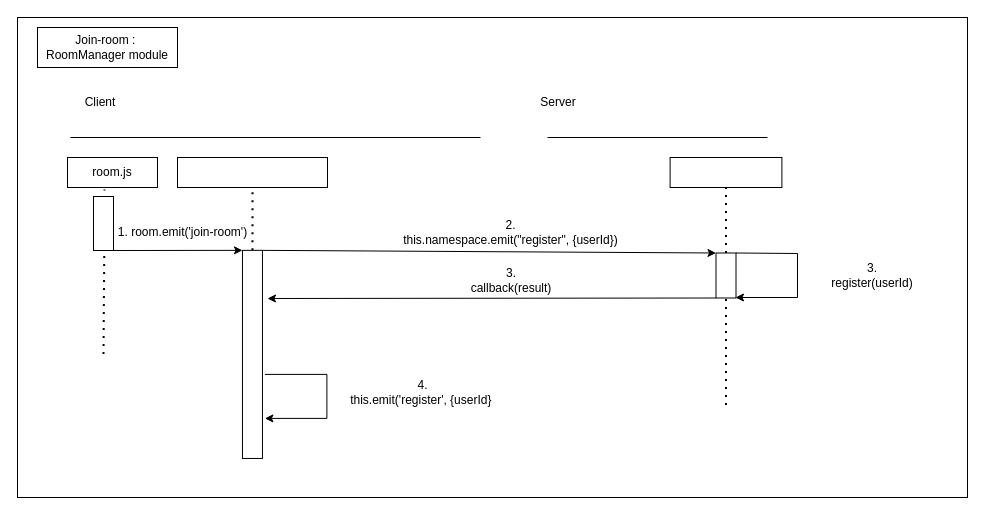
This 985x515 diagram has some shape labels left out. Each missing label, with the centre of its shape:
"RoomModule/ RoomManager.js" belongs at (725,172).
"RoomModule/ RoomManagerClient" belongs at (252,172).
